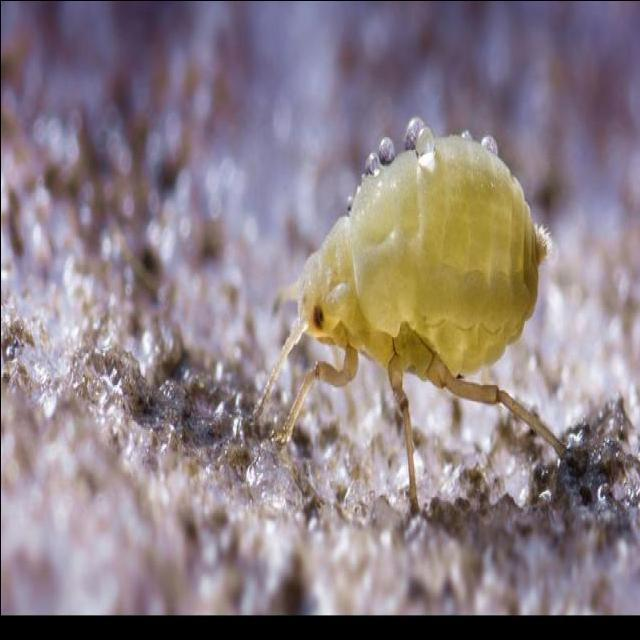aphid: (220, 88, 576, 542)
